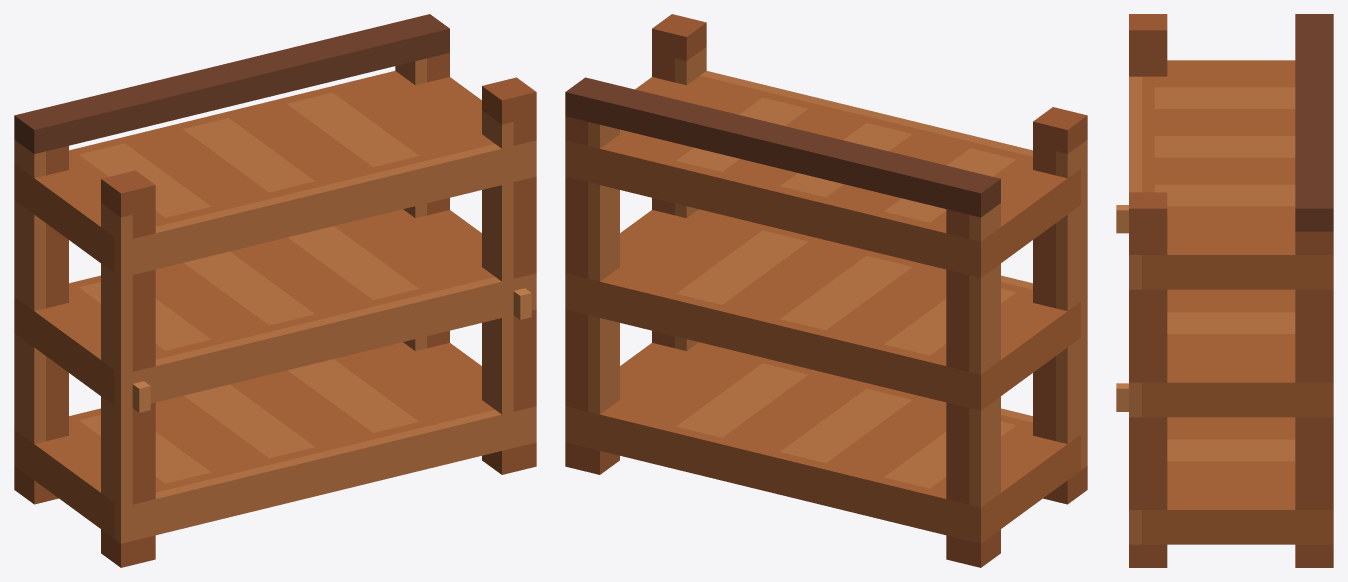
File: StorageShelf_1x2.fbx
3 renders of one model, left to right at view 1: azimuth 30°, elevation 25°; view 2: azimuth 150°, elevation 25°; view 3: azimuth 270°, elevation 25°, orthographic. The views are drawn at different scales.
Parts seen in each view (by area): view 1: Shelf_Tiers, Shelf_Front_Edges, Shelf_Plank_Pixels, Square_Posts, Square_Post_Tips, Shelf_Top_Rail, Joinery_Pegs; view 2: Shelf_Tiers, Shelf_Plank_Pixels, Square_Posts, Square_Post_Tips, Shelf_Top_Rail, Shelf_Front_Edges; view 3: Shelf_Tiers, Square_Posts, Shelf_Plank_Pixels, Shelf_Top_Rail, Shelf_Front_Edges, Joinery_Pegs.
Part boxes in pixels (left/top/right/bottom): Shelf_Tiers: left=14, top=71, right=494, bottom=538; Shelf_Front_Edges: left=114, top=140, right=536, bottom=543; Shelf_Plank_Pixels: left=79, top=92, right=418, bottom=483; Square_Posts: left=14, top=53, right=536, bottom=567; Square_Post_Tips: left=14, top=58, right=513, bottom=507; Shelf_Top_Rail: left=14, top=14, right=449, bottom=153; Joinery_Pegs: left=132, top=288, right=531, bottom=412; Shelf_Tiers: left=565, top=75, right=1080, bottom=543; Shelf_Plank_Pixels: left=676, top=97, right=1015, bottom=488; Square_Posts: left=565, top=14, right=1087, bottom=567; Square_Post_Tips: left=588, top=47, right=1087, bottom=507; Shelf_Top_Rail: left=565, top=77, right=1000, bottom=217; Shelf_Front_Edges: left=700, top=71, right=1087, bottom=470; Shelf_Tiers: left=1142, top=60, right=1333, bottom=544; Square_Posts: left=1129, top=14, right=1333, bottom=567; Shelf_Plank_Pixels: left=1154, top=87, right=1295, bottom=461; Shelf_Top_Rail: left=1295, top=14, right=1333, bottom=231; Shelf_Front_Edges: left=1129, top=76, right=1141, bottom=544; Joinery_Pegs: left=1116, top=205, right=1128, bottom=411.
Size of the model in its own units: 180 by 155 by 85.
